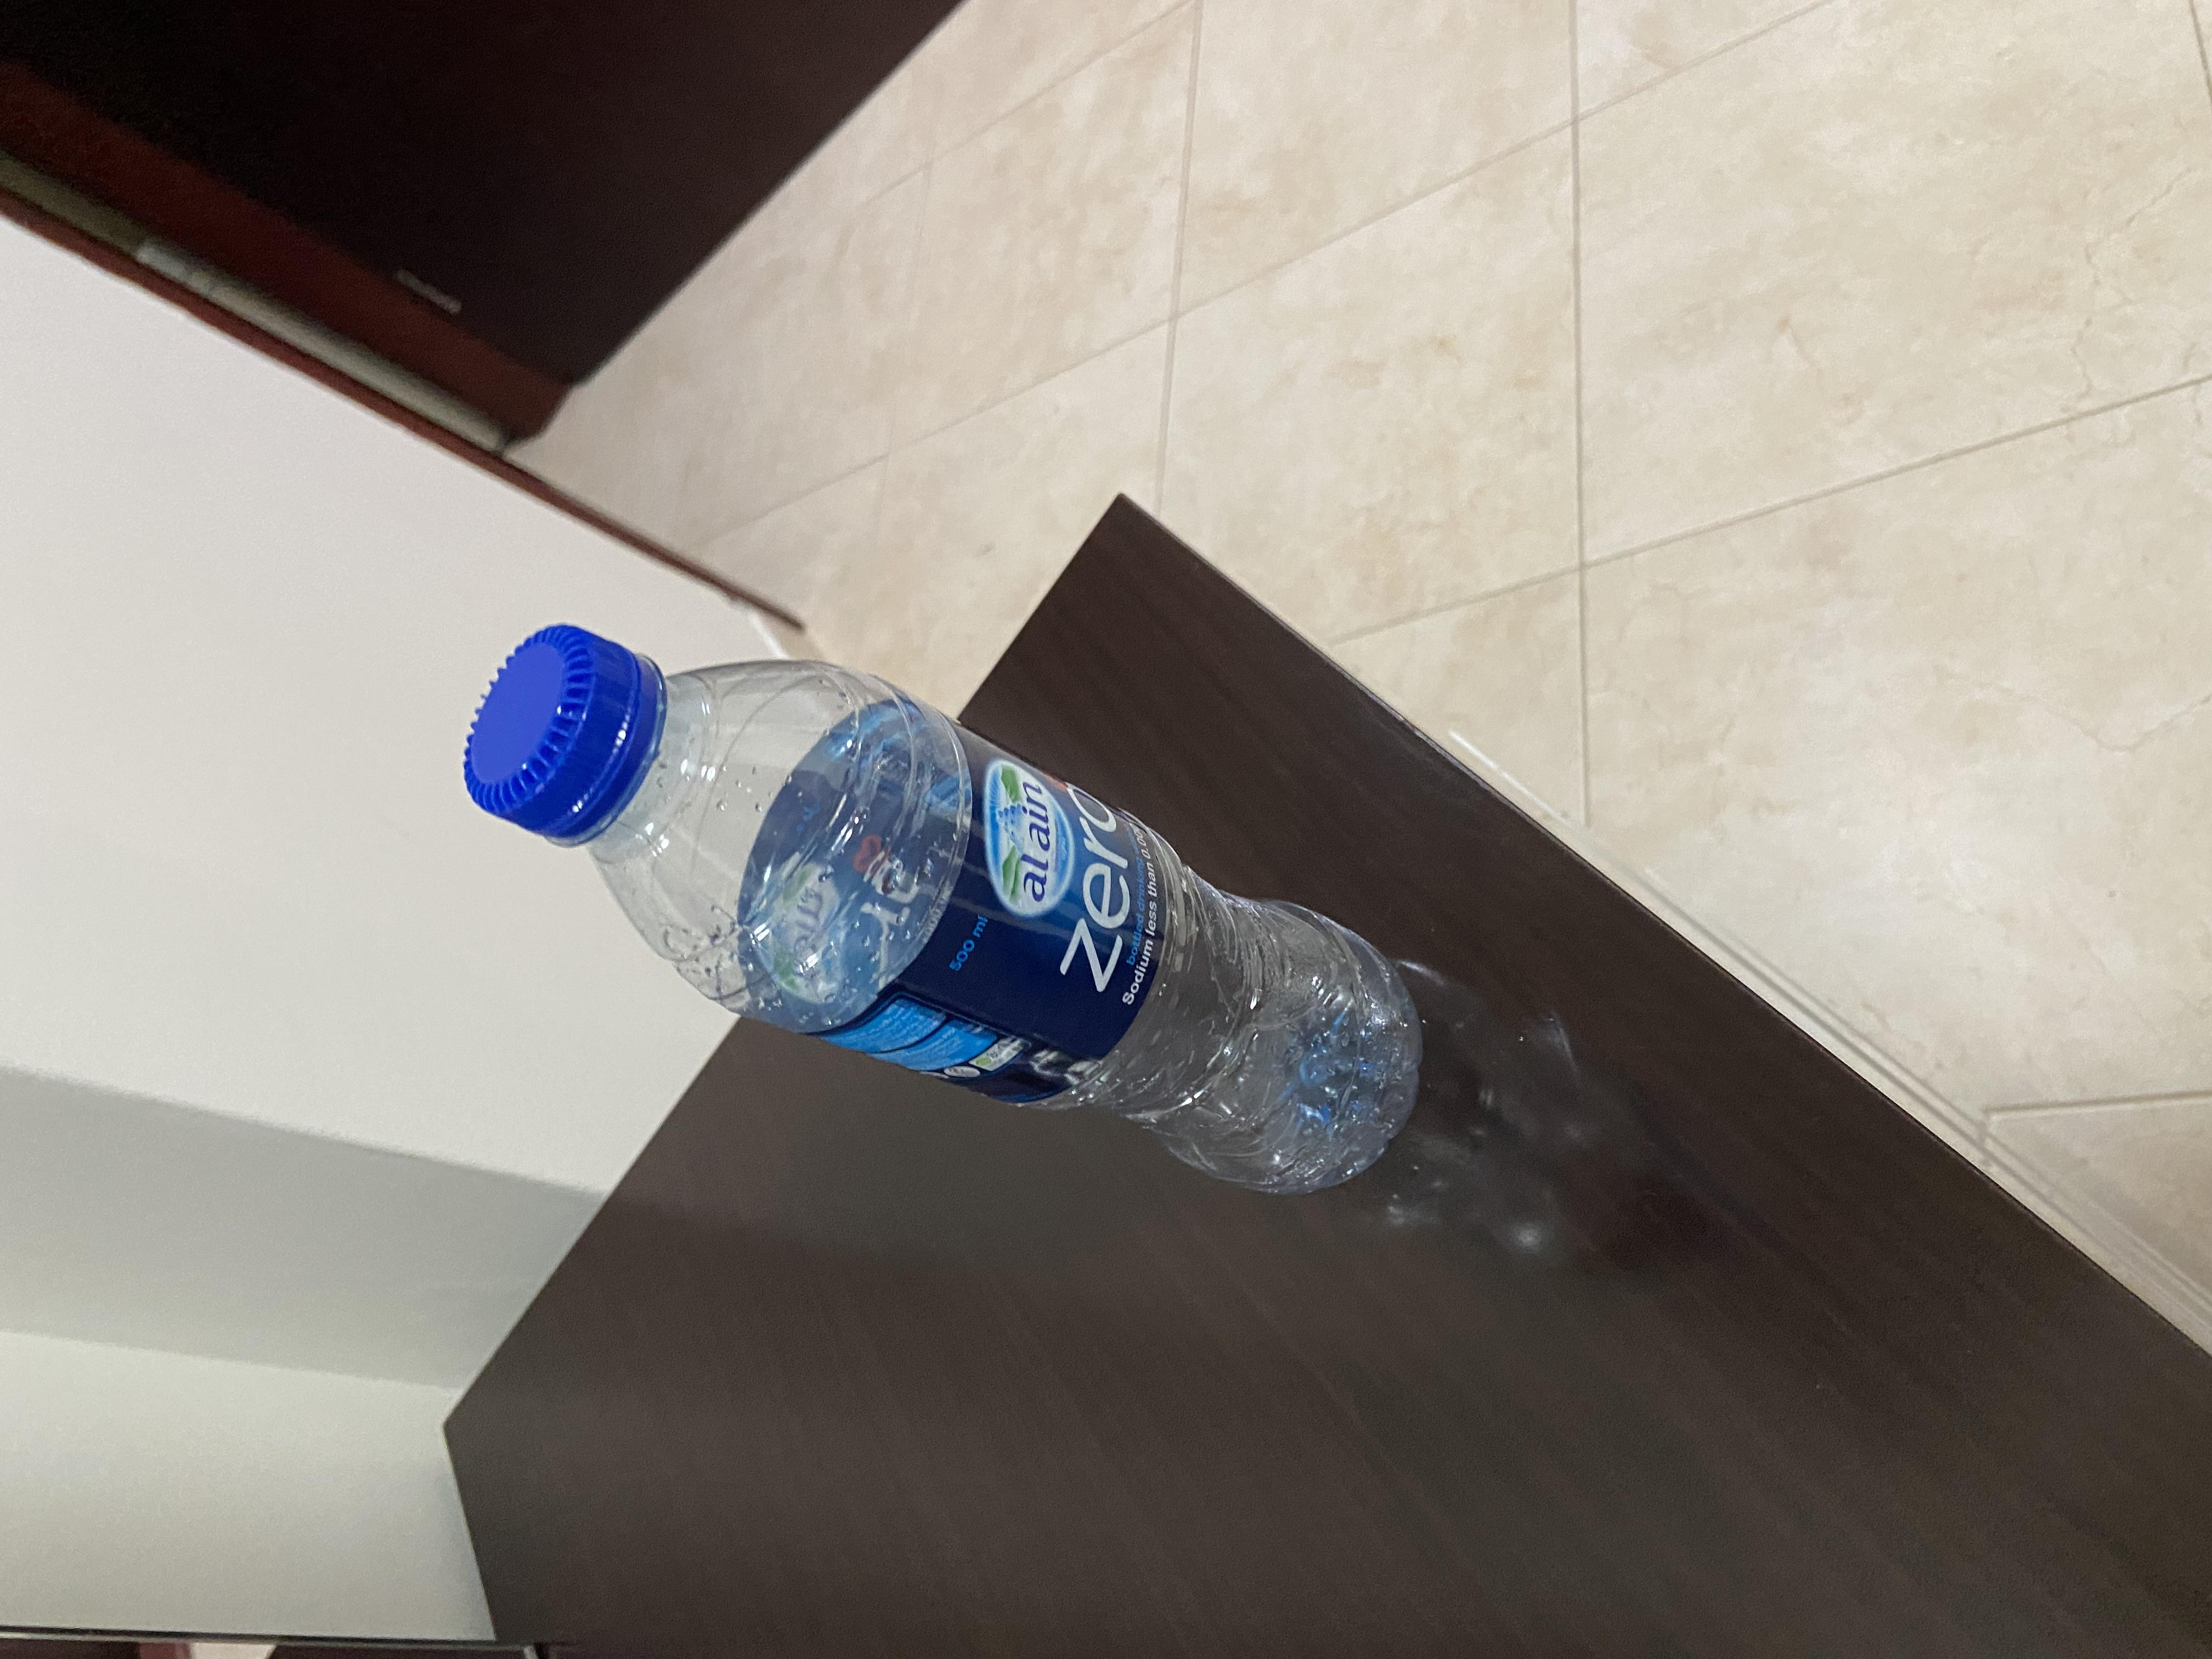bottle: (594, 335, 1444, 1068)
